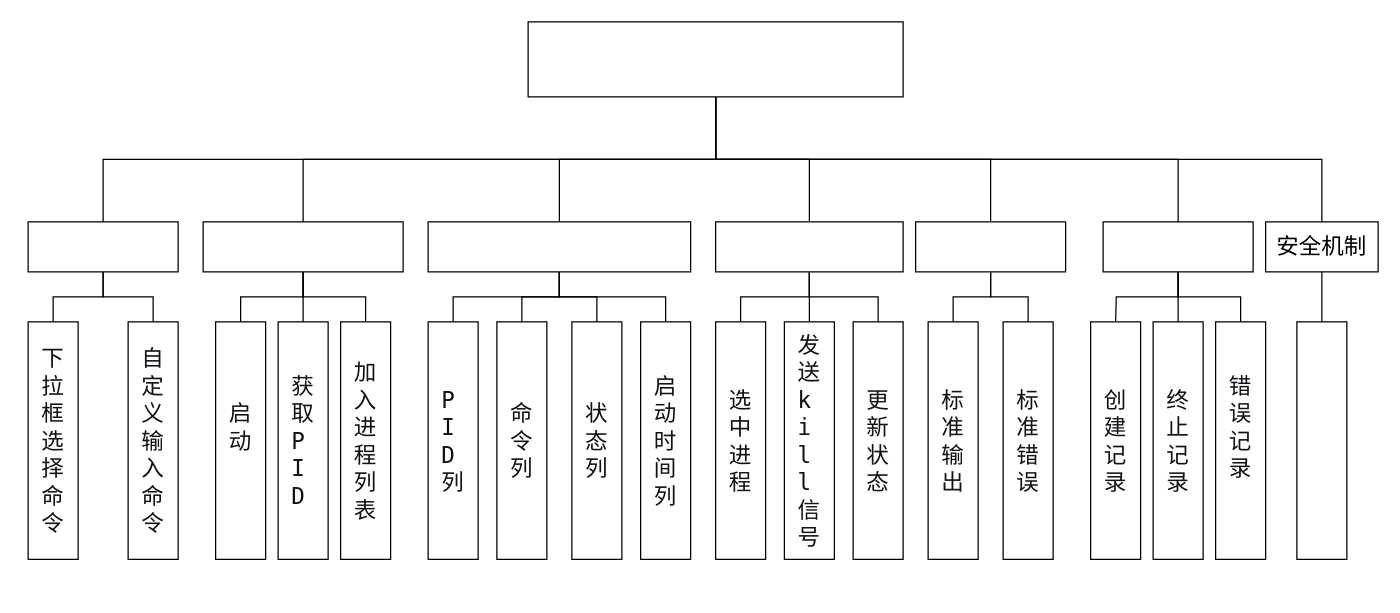
This 1400x613 diagram has some shape labels left out. The centre of each missing label's shape, as x and y in pixels:
"命令控制区" goes at point (102, 246).
"命令白名单" goes at point (1321, 440).
"操作日志" goes at point (1177, 246).
"输出捕获" goes at point (990, 246).
"进程列表" goes at point (559, 246).
"进程创建" goes at point (302, 246).
"进程创建与终止仿真系统" goes at point (715, 59).
"进程终止" goes at point (808, 246).
